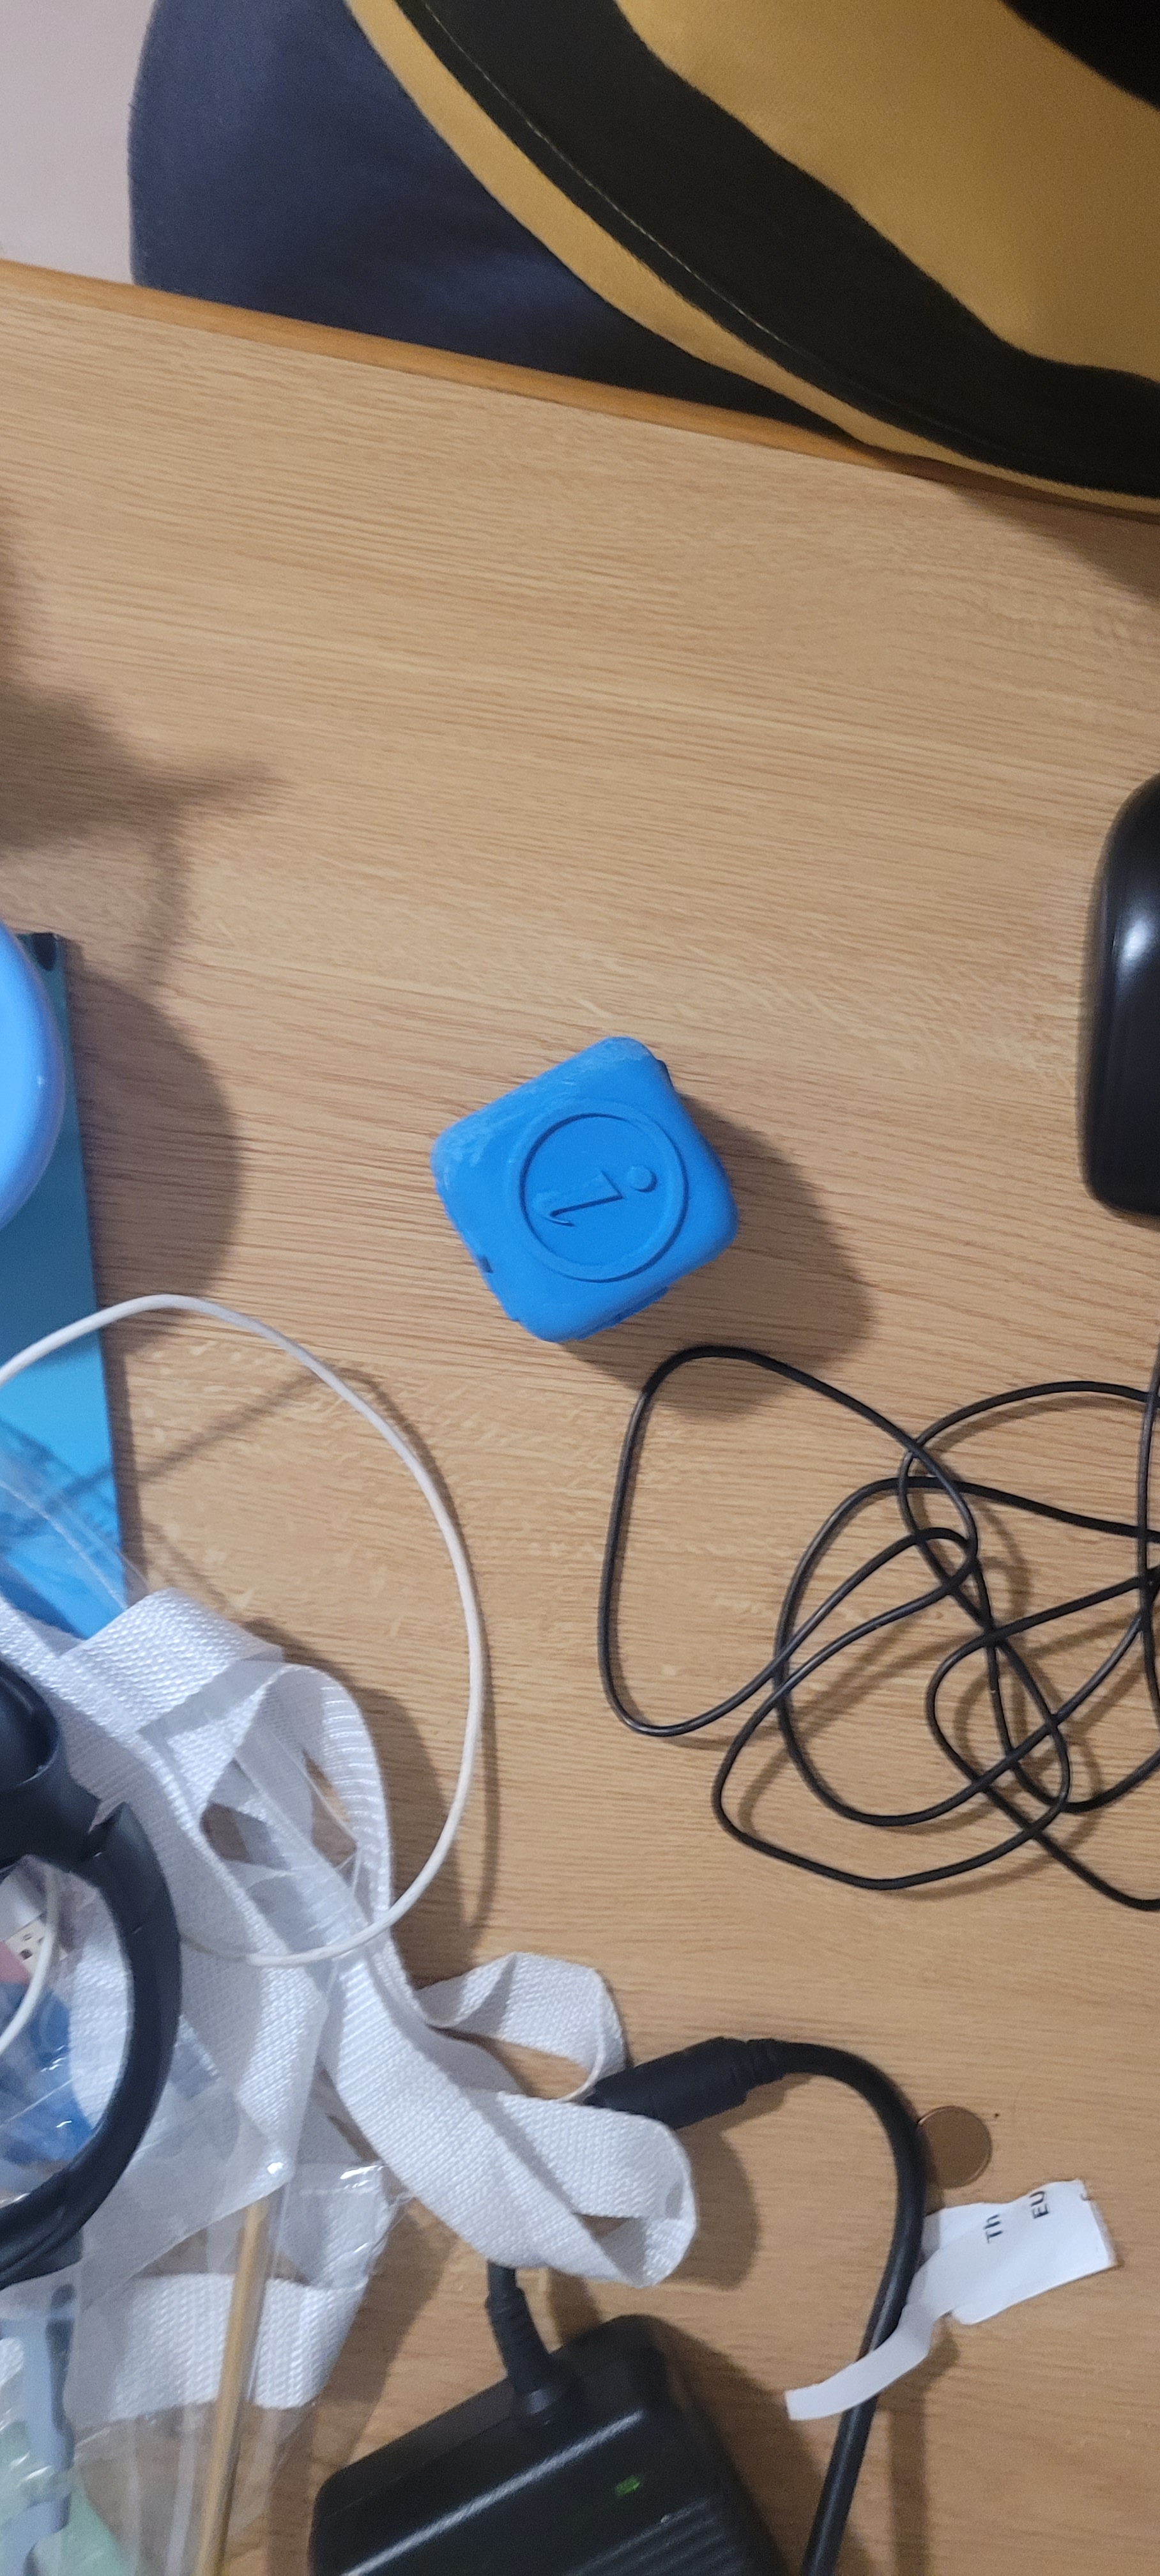Info: (427, 1079, 784, 1344)
